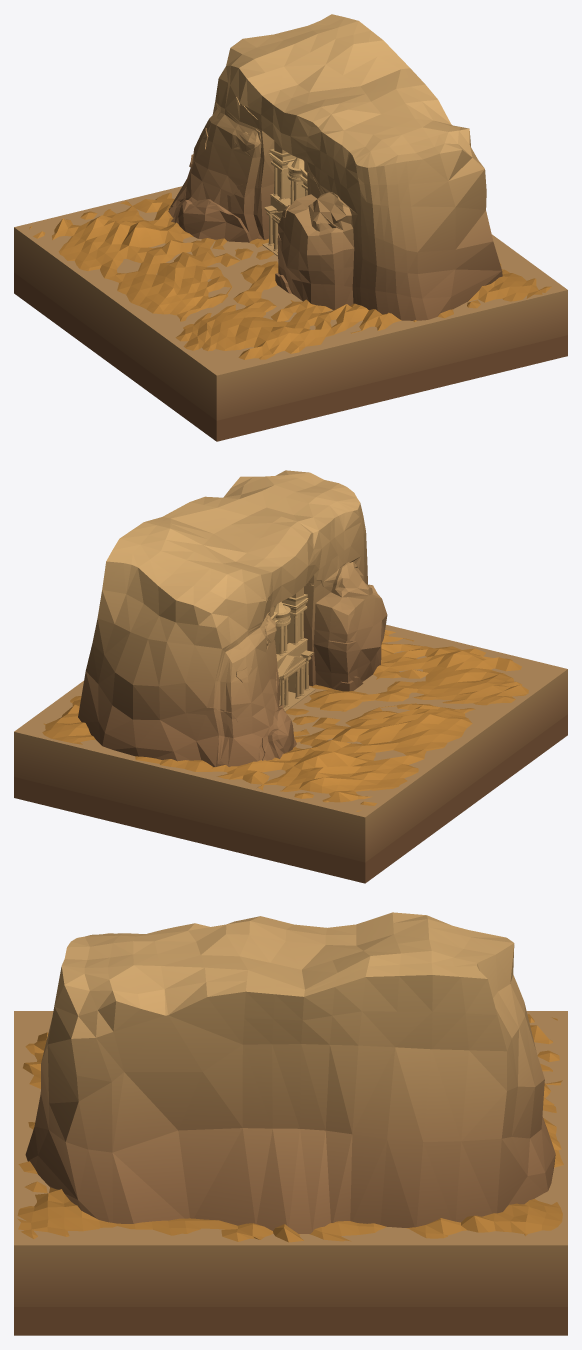
Rendered from Petra ancient monuments all.fbx.
The picture shows the model from 3 angles, top to bottom: view 1: azimuth 30°, elevation 25°; view 2: azimuth 150°, elevation 25°; view 3: azimuth 270°, elevation 25°; orthographic projection. The views are drawn at different scales.
Parts seen in each view (by area): view 1: Cube.576, Cube.573, Cube.572, Cube.577; view 2: Cube.576, Cube.573, Cube.572, Cube.577; view 3: Cube.576, Cube.573, Cube.572.
Part boxes in pixels (x1=…): Cube.576: x1=168, y1=14, x2=502, y2=320; Cube.573: x1=14, y1=186, x2=567, y2=441; Cube.572: x1=29, y1=192, x2=551, y2=359; Cube.577: x1=262, y1=149, x2=307, y2=256; Cube.576: x1=78, y1=470, x2=387, y2=766; Cube.573: x1=14, y1=624, x2=567, y2=883; Cube.572: x1=42, y1=630, x2=528, y2=811; Cube.577: x1=271, y1=594, x2=315, y2=711; Cube.576: x1=25, y1=912, x2=555, y2=1233; Cube.573: x1=14, y1=1011, x2=567, y2=1335; Cube.572: x1=17, y1=1014, x2=563, y2=1242.
Bounding box in the file's own units: 157 × 101 × 157.
1 material, 1 textured.
